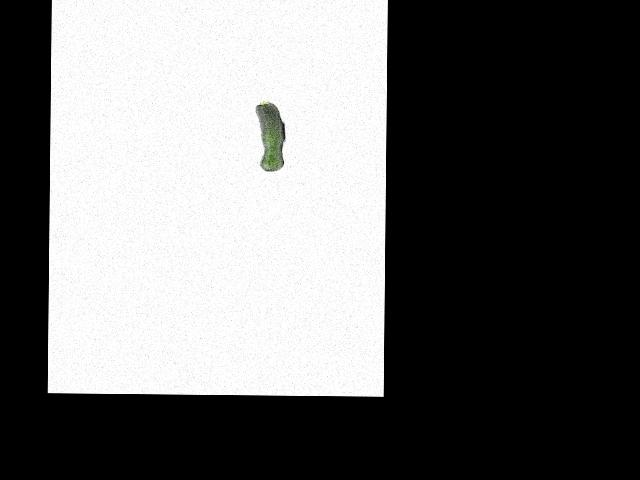cucumber: (254, 100, 285, 171)
